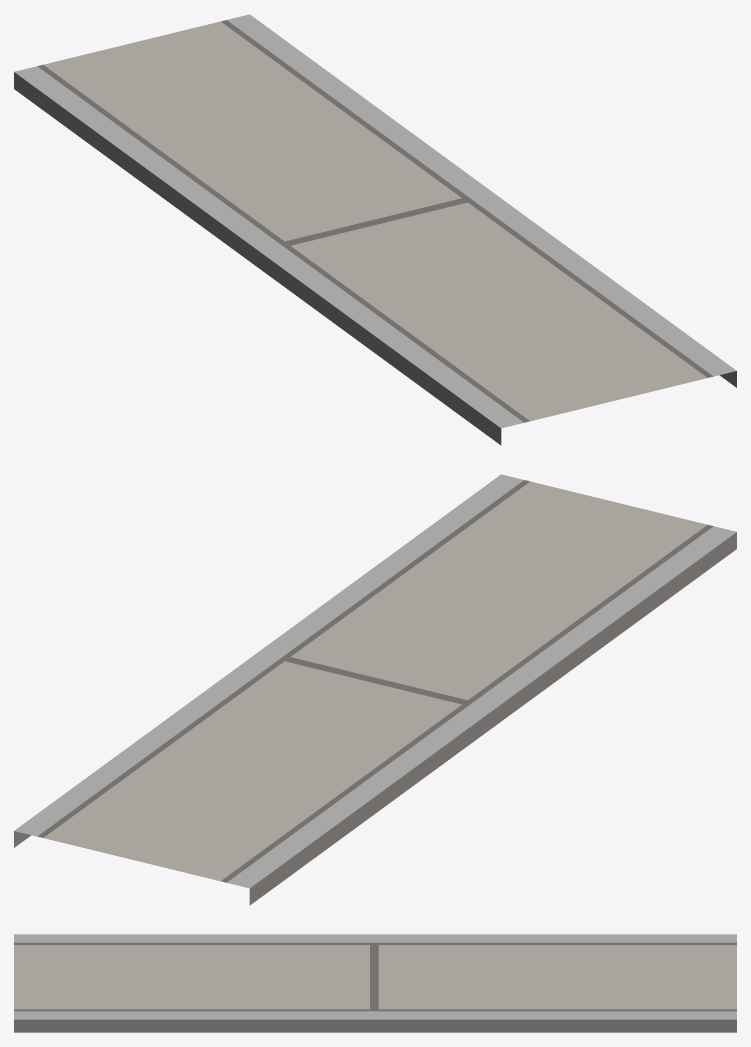
The model's file is SA_Env_Path_Straight_01.fbx.
The picture shows the model from 3 angles, top to bottom: view 1: azimuth 30°, elevation 25°; view 2: azimuth 150°, elevation 25°; view 3: azimuth 270°, elevation 25°; orthographic projection. The views are drawn at different scales.
Visible parts, largest first — view 1: SA_Env_Path_Straight_01; view 2: SA_Env_Path_Straight_01; view 3: SA_Env_Path_Straight_01.
Part boxes in pixels (x1,y1,x2,y2): SA_Env_Path_Straight_01: (14, 14, 736, 445); SA_Env_Path_Straight_01: (14, 474, 736, 905); SA_Env_Path_Straight_01: (14, 934, 736, 1032).
Size of the model in its own units: 2.79 by 0.1948 by 10.
1 material, 1 textured.
